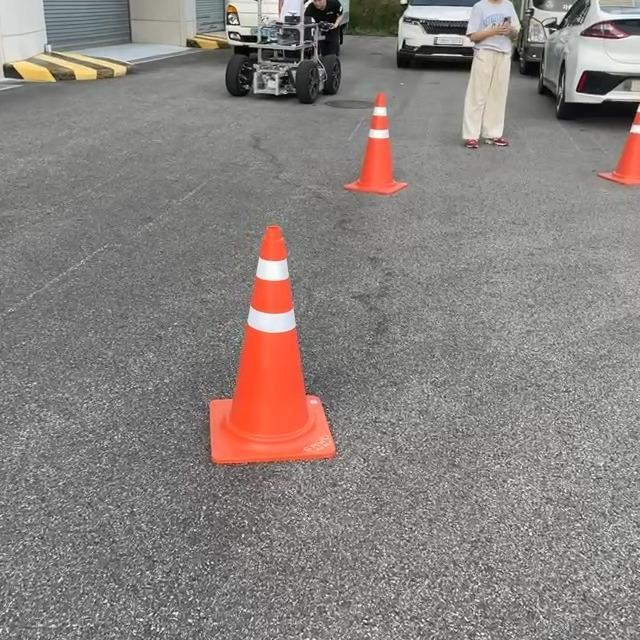fallen_object: (170, 222, 377, 515), (335, 70, 437, 198), (601, 61, 640, 218)
